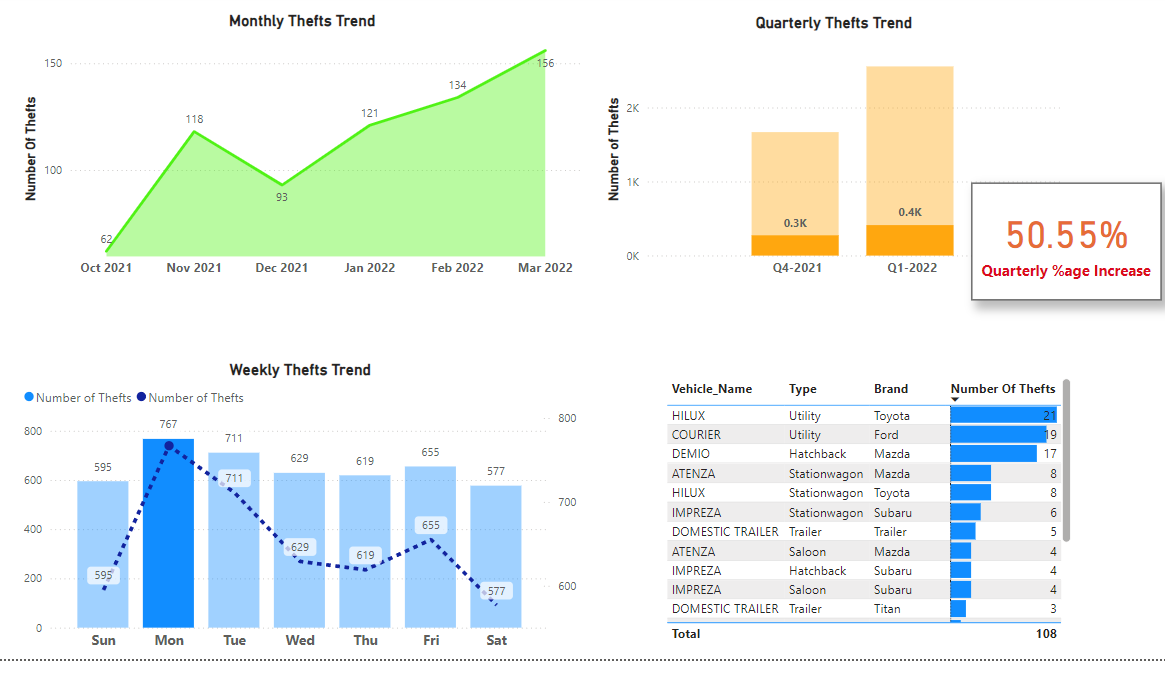

This screenshot's page, from the dashboard's own definition file:
{"tool":"powerbi","page":{"name":"Time-Series Analysis","canvas":[1280,720],"ordinal":1},"visuals":[{"type":"areaChart","title":"Monthly Thefts Trend","fields":{"Category":["Date.Year Month","Date.Date"],"Y":["stolen_vehicles_db stolen_vehicles.Number Of Thefts"]},"box":[27.1,18.9,613.1,296.4],"z":0},{"type":"columnChart","title":"Quarterly Thefts Trend","fields":{"Category":["Date.Year Quarter"],"Y":["Count(stolen_vehicles_db stolen_vehicles.vehicle_id)"]},"box":[657.7,20.3,503.4,295],"z":1000},{"type":"lineClusteredColumnComboChart","title":"Weekly Thefts Trend","fields":{"Category":["Date.Day of Week"],"Y":["Count(stolen_vehicles_db stolen_vehicles.vehicle_id)"],"Y2":["Count(stolen_vehicles_db stolen_vehicles.vehicle_id)"]},"box":[27.1,396.5,609,323.5],"z":2000},{"type":"card","fields":{"Values":["Date.Quarterly %age increase"]},"box":[1058.3,204.4,205.7,127.2],"z":3000},{"type":"tableEx","fields":{"Values":["stolen_vehicles_db stolen_vehicles.vehicle_desc","stolen_vehicles_db stolen_vehicles.vehicle_type","stolen_vehicles_db make_details.make_name","stolen_vehicles_db stolen_vehicles.Number Of Thefts"]},"box":[722.7,411.4,391.1,295],"z":4000}]}

Visuals, with their boxes on the page's 1280x720 design canvas (x1, y1, x2, y2). These are canvas units, not pixel positions in the 1165x680 screenshot, which may show the page scaled, cropped or inside an application window:
"Monthly Thefts Trend" areaChart: [27,19,640,315]
"Quarterly Thefts Trend" columnChart: [658,20,1161,315]
"Weekly Thefts Trend" lineClusteredColumnComboChart: [27,396,636,720]
card - Date.Quarterly %age increase: [1058,204,1264,332]
tableEx - stolen_vehicles_db stolen_vehicles.vehicle_desc x stolen_vehicles_db stolen_vehicles.vehicle_type: [723,411,1114,706]
